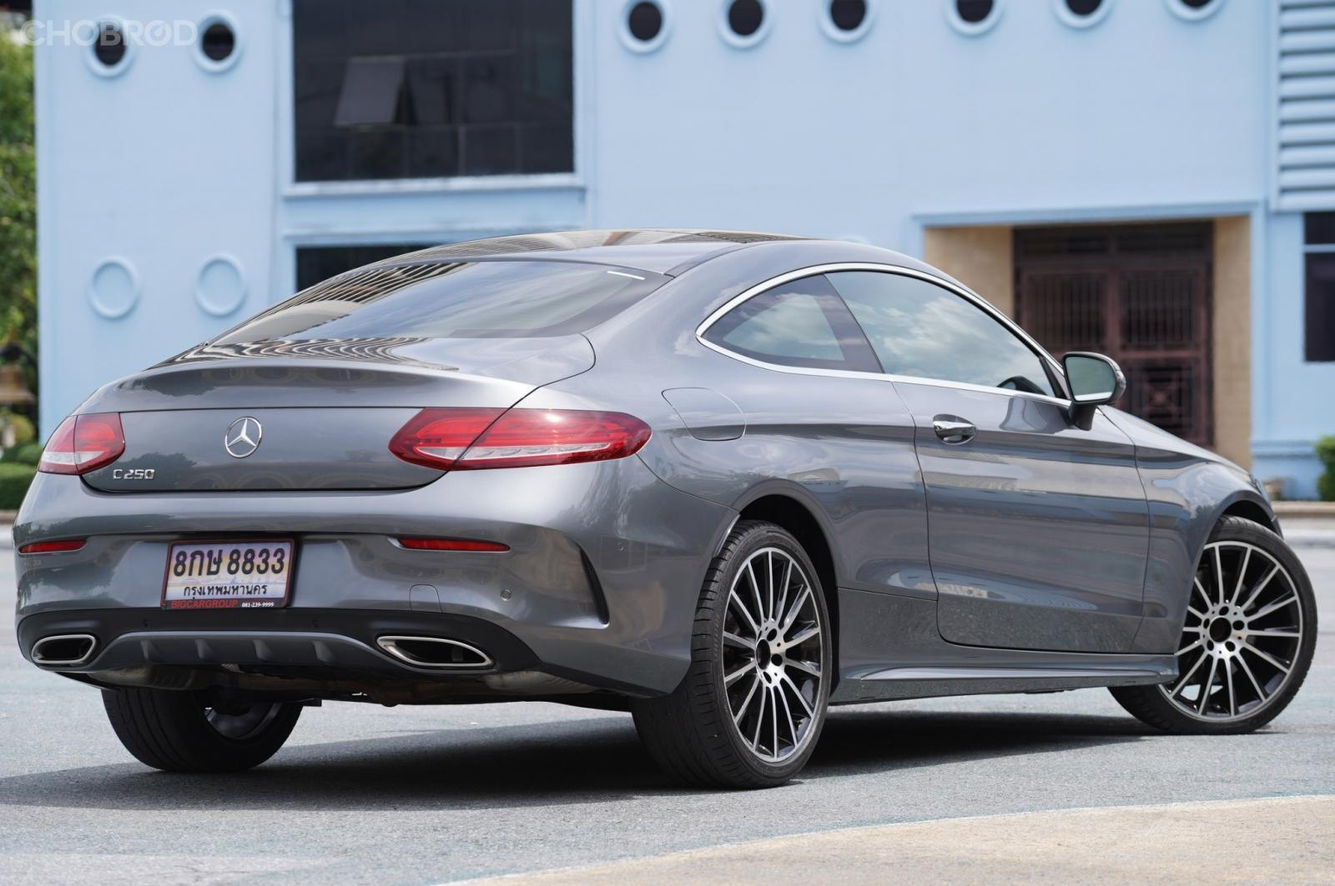license-plate: (160, 535, 297, 610)
